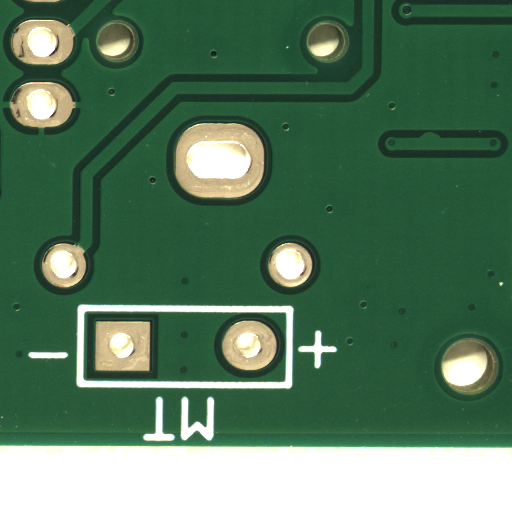Spur: (429, 135, 452, 143)
